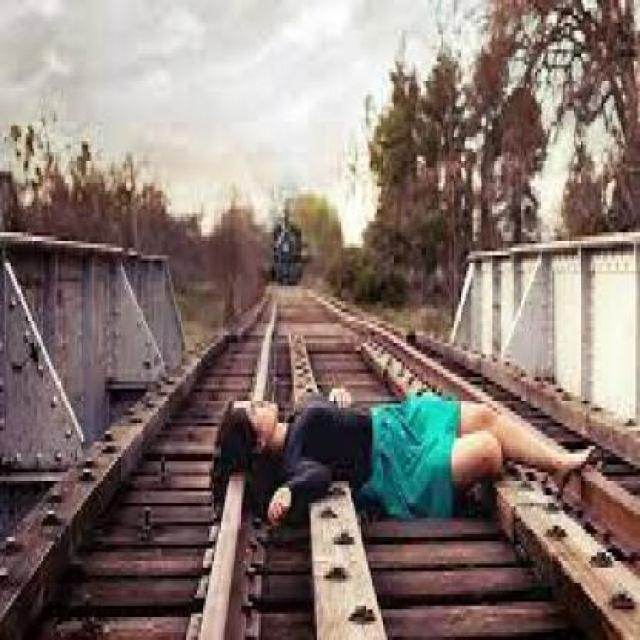danger: (194, 364, 606, 532)
rail: (2, 256, 636, 639)
